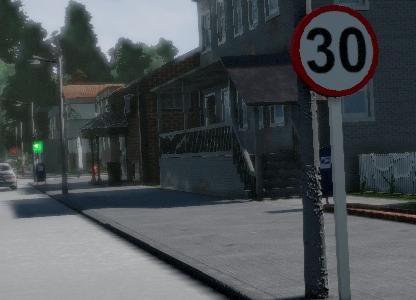Speed_30: (290, 5, 380, 99)
